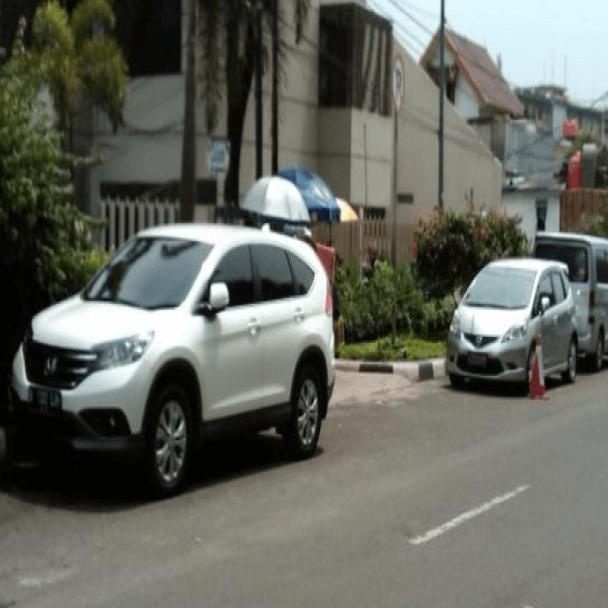Mobil: (6, 212, 337, 483), (442, 254, 582, 400), (534, 225, 608, 373)
